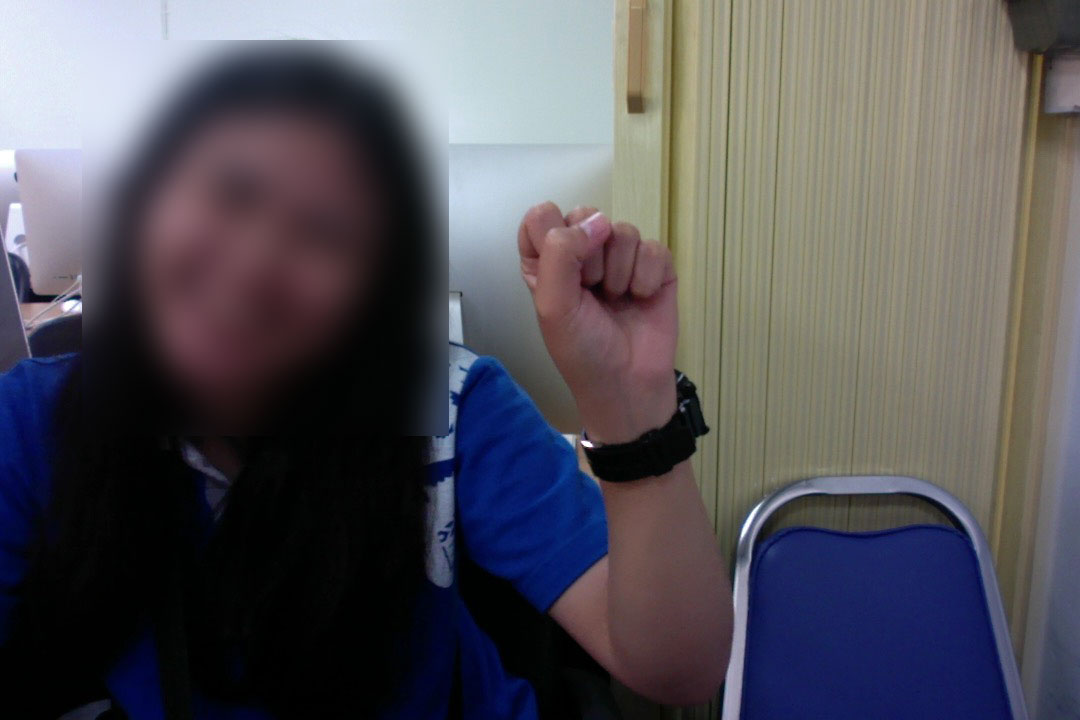sor: (507, 193, 685, 415)
